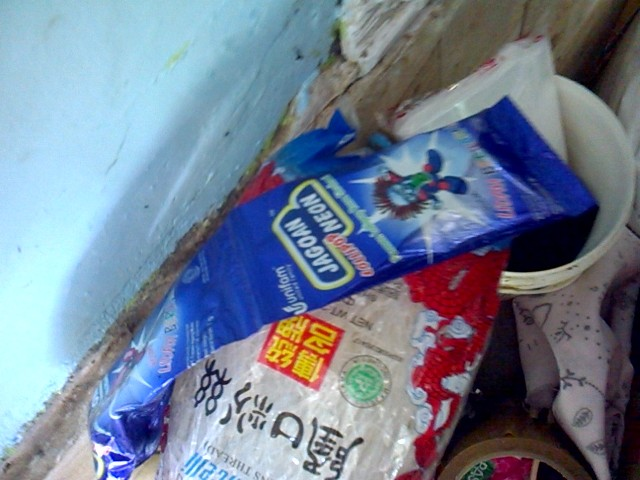jagoan neon: (221, 96, 595, 330)
